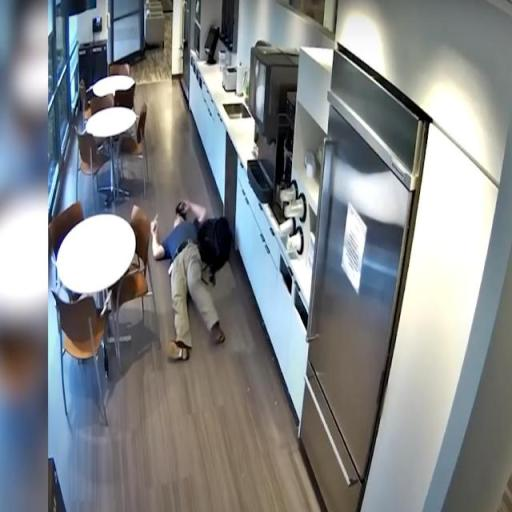Fall: (149, 194, 229, 366)
